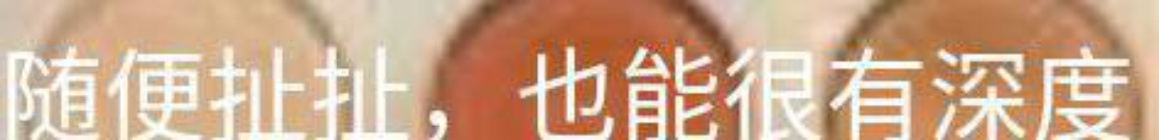TextView: (1, 1, 1158, 139)
